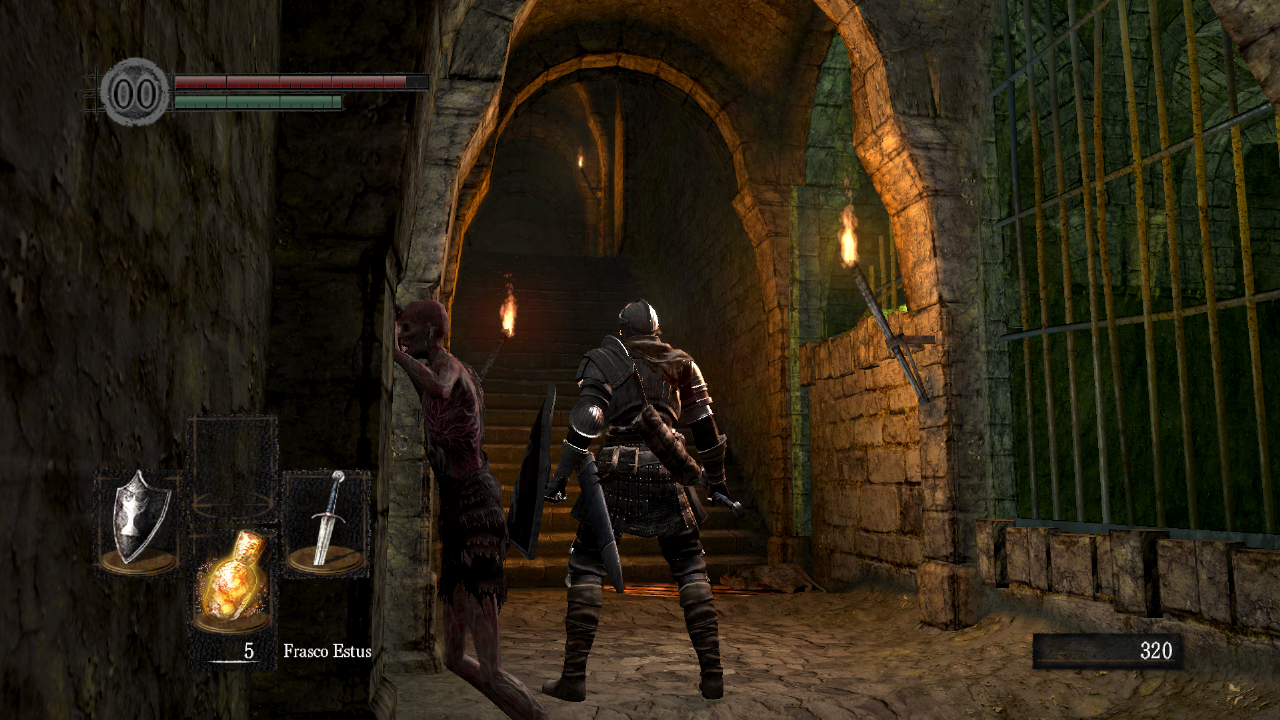hollow: (393, 300, 552, 720)
player: (507, 298, 745, 702)
